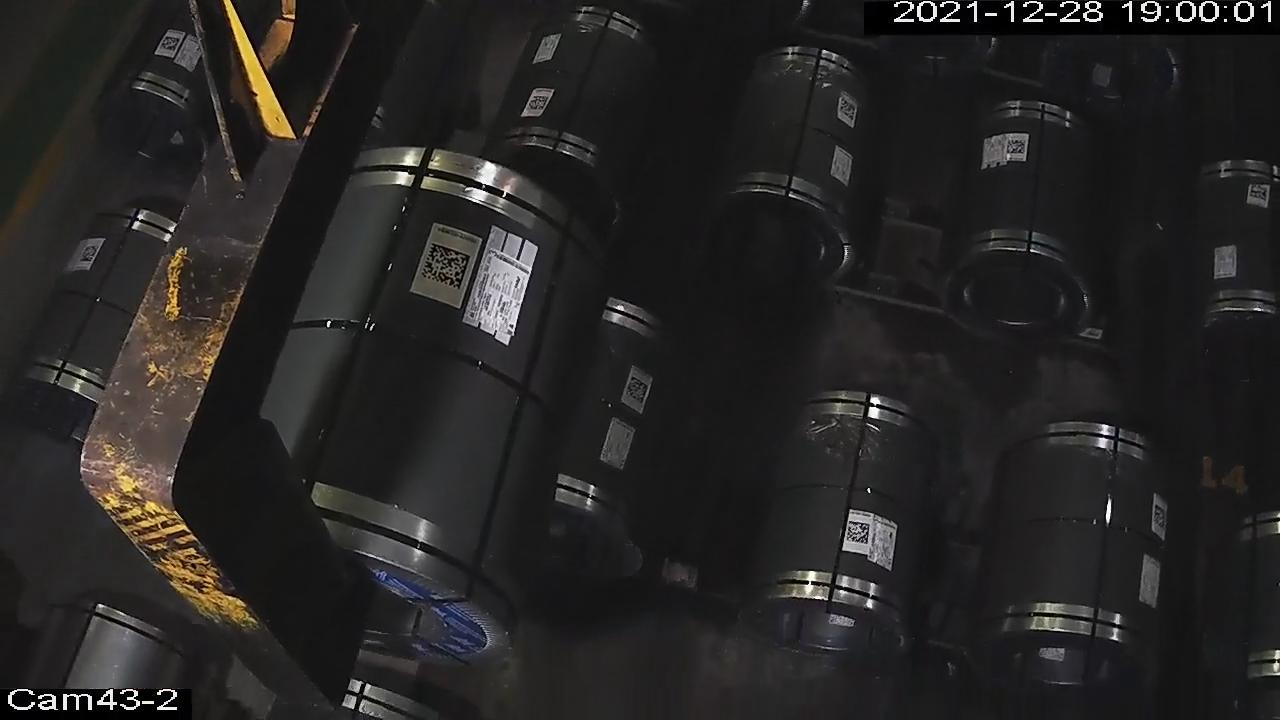data matrix: (417, 240, 476, 294), (623, 375, 652, 407), (845, 518, 873, 547), (1245, 180, 1272, 207), (524, 92, 551, 117), (157, 31, 182, 56), (838, 95, 859, 124), (1149, 502, 1170, 530), (79, 242, 102, 266), (1005, 137, 1029, 157)
